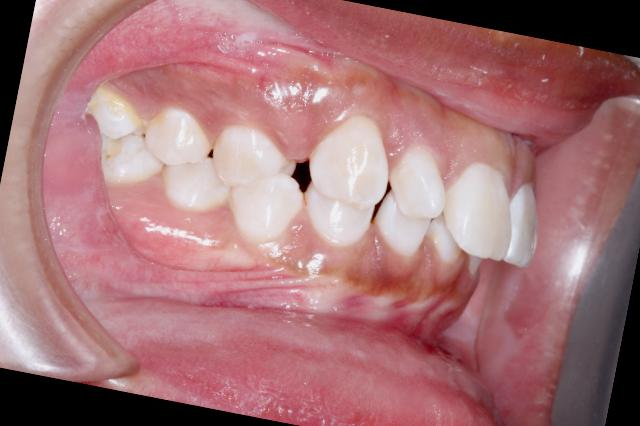canine class II 1/2: (224, 99, 399, 267)
molar class I: (63, 64, 176, 200)
